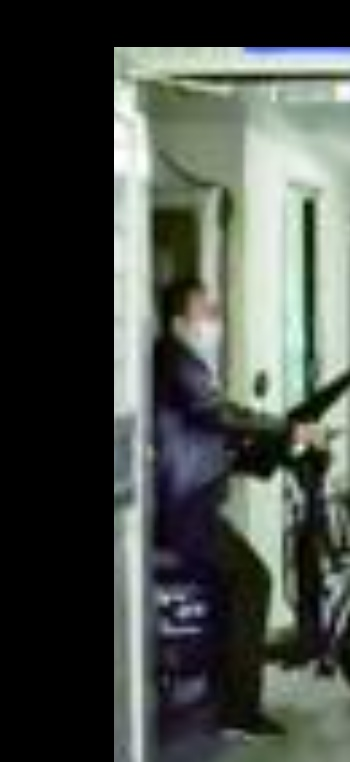ebike: (156, 358, 348, 721)
person: (153, 274, 343, 735)
